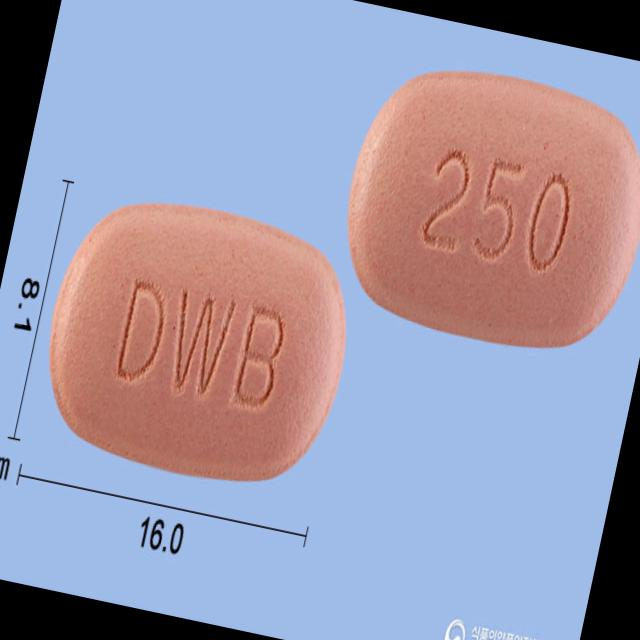Cravocin: (25, 178, 369, 502), (322, 45, 640, 365)
